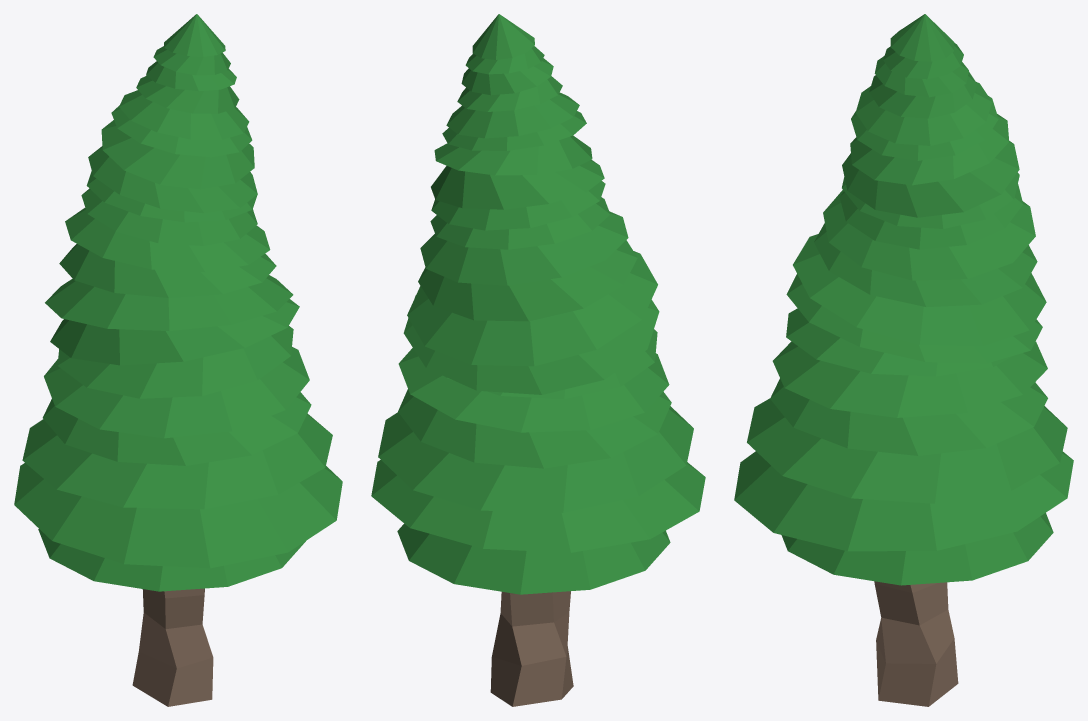
File: Pine1.fbx
The picture shows the model from 3 angles, left to right: view 1: azimuth 30°, elevation 25°; view 2: azimuth 150°, elevation 25°; view 3: azimuth 270°, elevation 25°; orthographic projection. The views are drawn at different scales.
Visible parts, largest first — view 1: Cylinder.001, Cylinder; view 2: Cylinder.001, Cylinder; view 3: Cylinder.001, Cylinder.
Part boxes in pixels (x1,y1,x2,y2): Cylinder.001: (14, 14, 342, 591); Cylinder: (132, 588, 213, 706); Cylinder.001: (371, 14, 705, 594); Cylinder: (490, 591, 573, 706); Cylinder.001: (734, 14, 1073, 585); Cylinder: (874, 581, 958, 706).
Bounding box in the file's own units: 518 × 1160 × 518.
